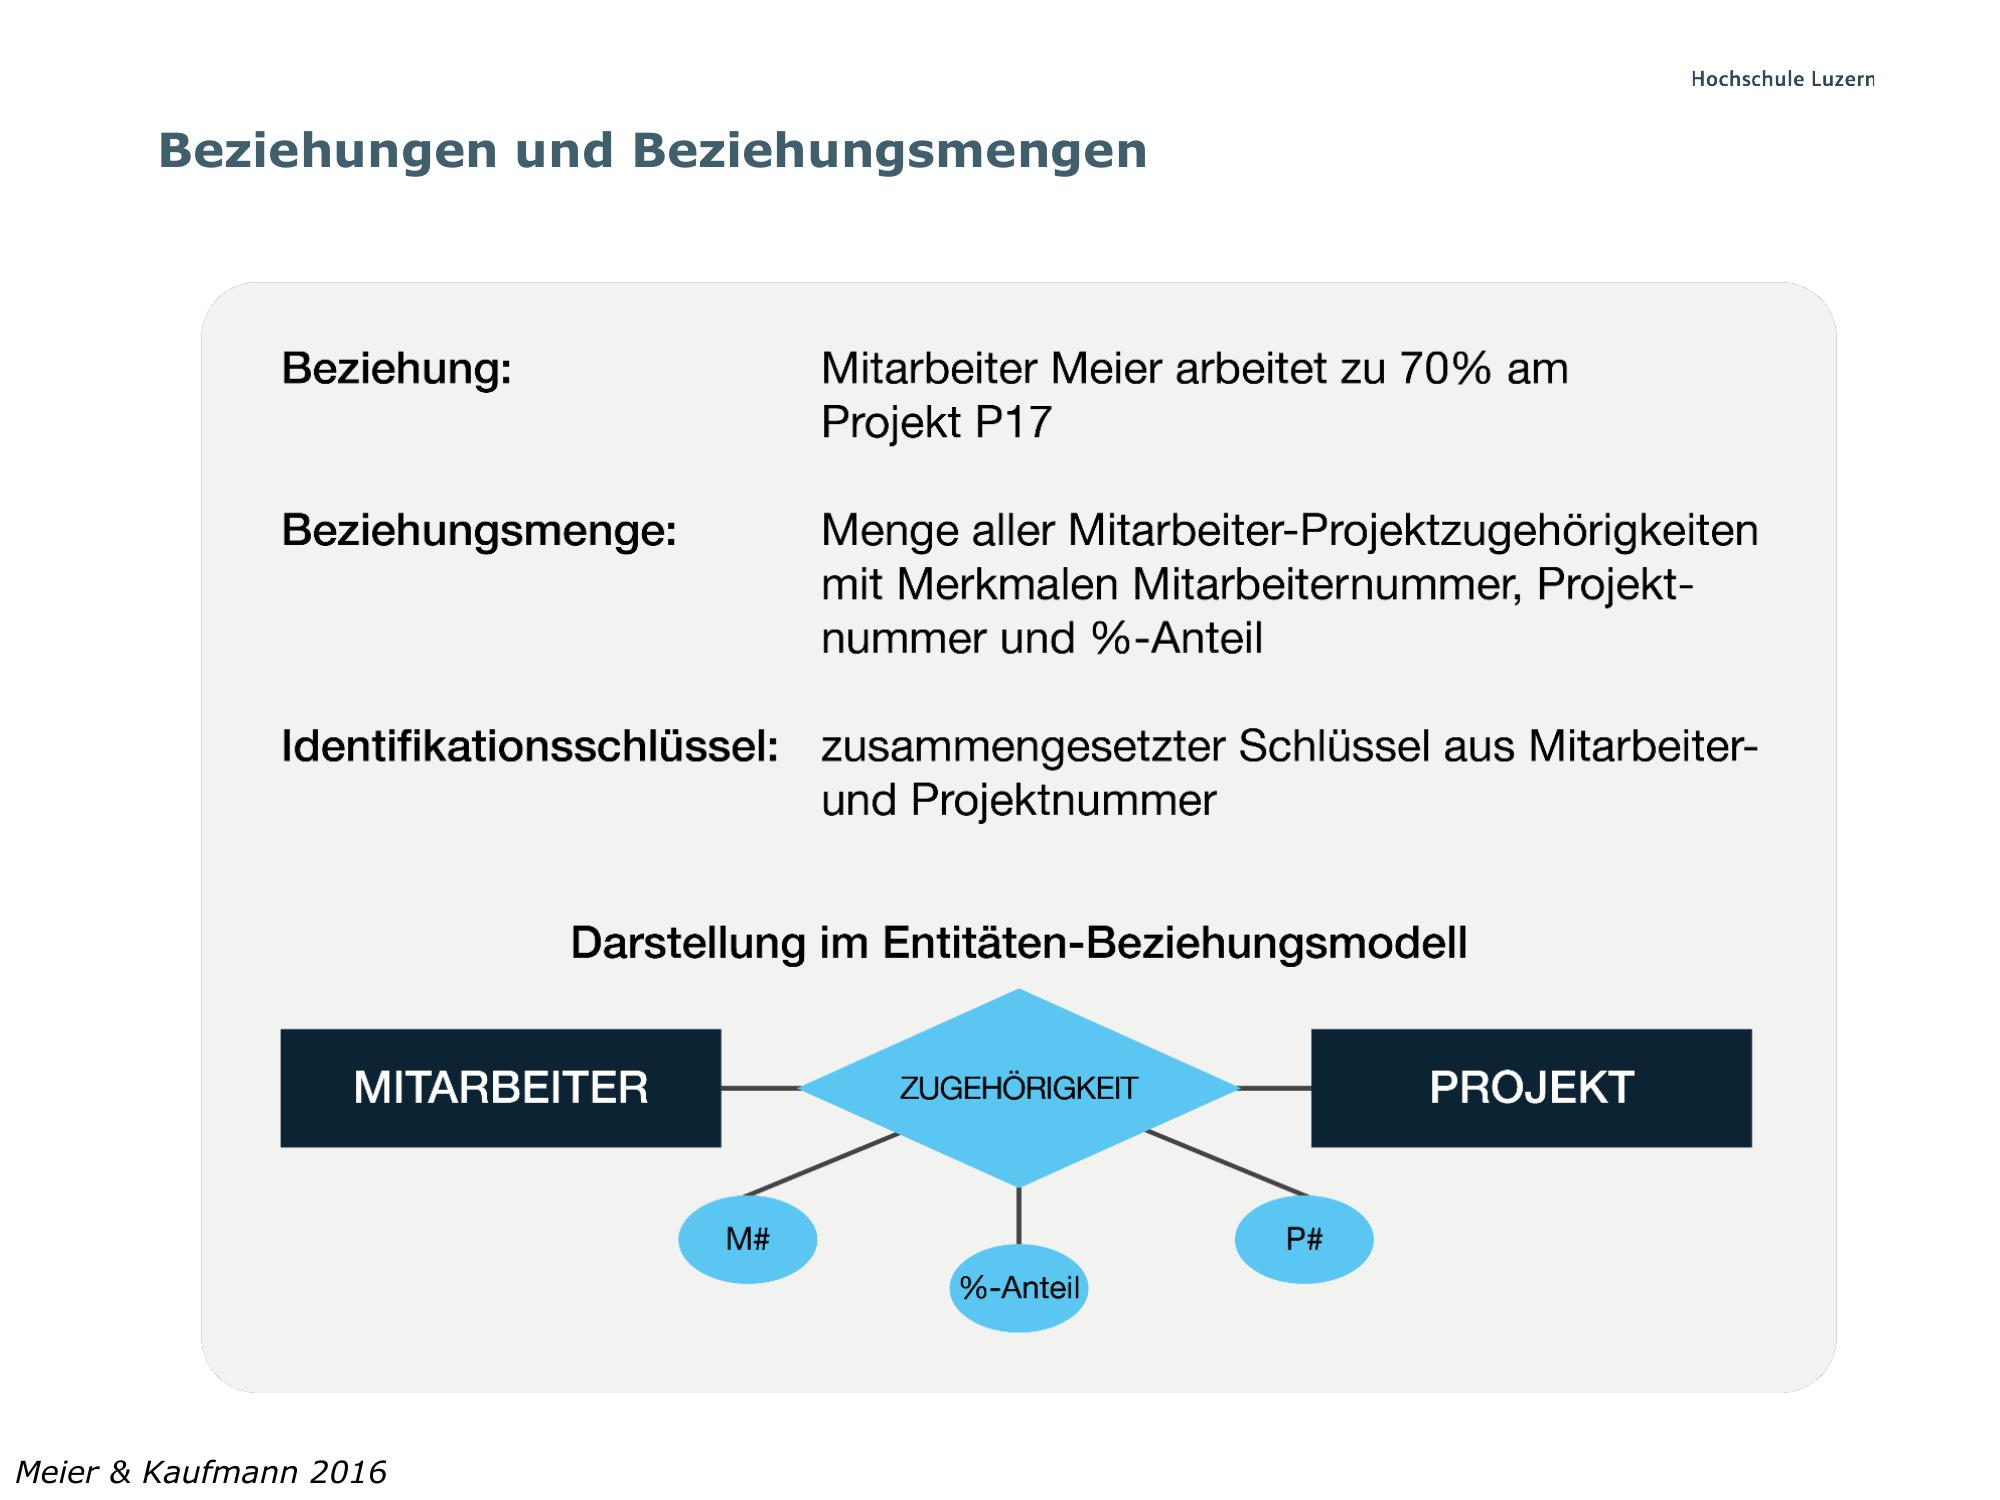Title: (139, 113, 1161, 180)
